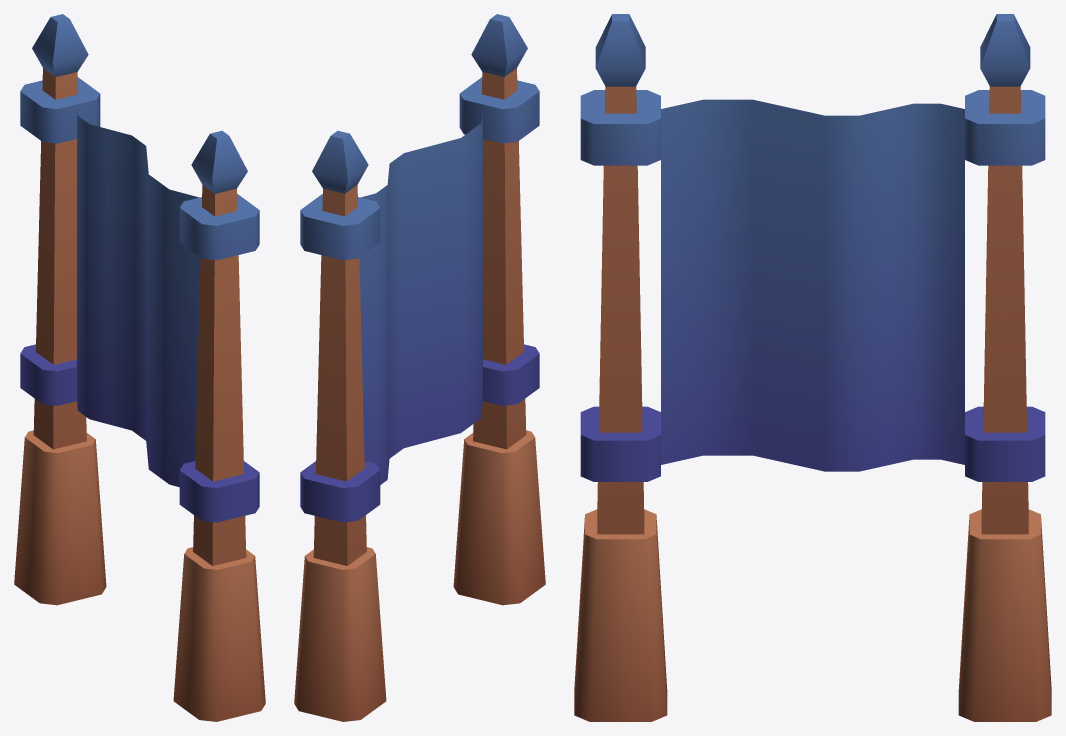
The model's file is flag-wide.glb.
3 views of the same model, side by side, from view 1: azimuth 30°, elevation 25°; view 2: azimuth 150°, elevation 25°; view 3: azimuth 270°, elevation 25° (orthographic). The views are drawn at different scales.
Parts seen in each view (by area): view 1: flag-wide; view 2: flag-wide; view 3: flag-wide.
Boxes of the visible parts, x1,y1,x2,y2 form: flag-wide: [14, 14, 265, 721]; flag-wide: [294, 14, 545, 721]; flag-wide: [574, 14, 1051, 721].
Bounding box in the file's own units: 0.1064 × 0.8656 × 0.5469.
